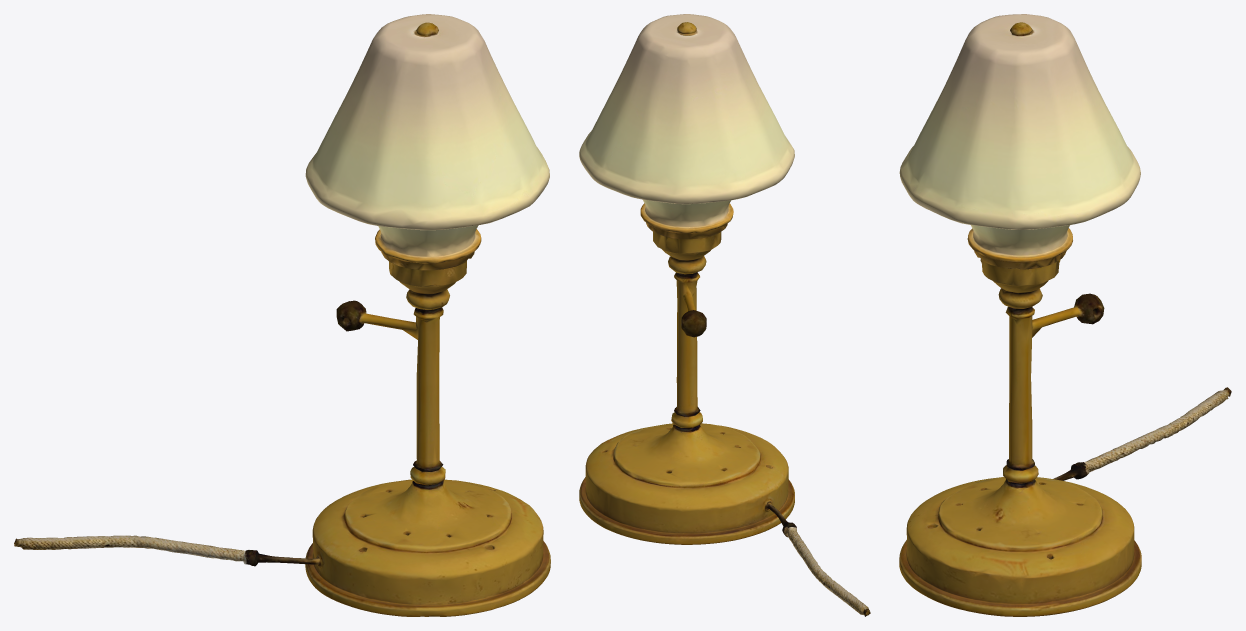
Rendered from desk_lamp.glb.
3 renders of one model, left to right at view 1: azimuth 30°, elevation 25°; view 2: azimuth 150°, elevation 25°; view 3: azimuth 270°, elevation 25°, orthographic. The views are drawn at different scales.
Visible parts, largest first — view 1: brass desk lamp 3d model; view 2: brass desk lamp 3d model; view 3: brass desk lamp 3d model.
Part boxes in pixels (x1,y1,x2,y2): brass desk lamp 3d model: (14, 14, 550, 616); brass desk lamp 3d model: (579, 14, 870, 616); brass desk lamp 3d model: (899, 14, 1231, 616).
Bounding box in the file's own units: 0.3228 × 0.4 × 0.2226.
Materials: 1 (1 with a texture image).
